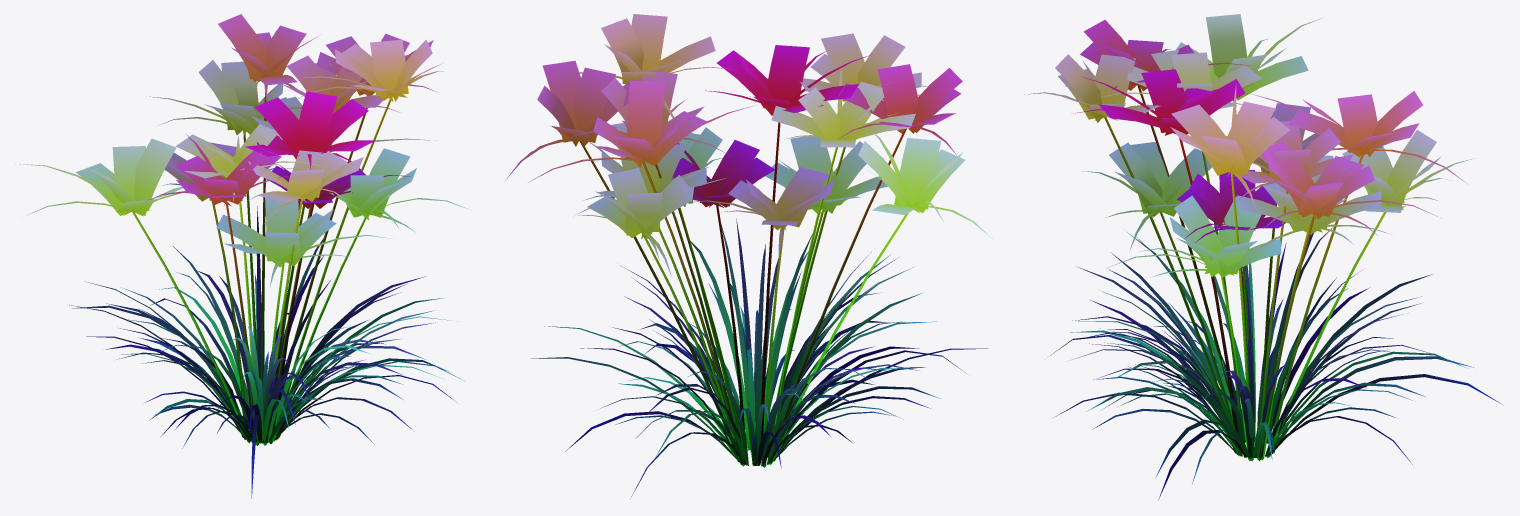
The model's file is Grass_Sedge_B_HD.fbx.
3 views of the same model, side by side, from view 1: azimuth 30°, elevation 25°; view 2: azimuth 150°, elevation 25°; view 3: azimuth 270°, elevation 25° (orthographic). The views are drawn at different scales.
Visible parts, largest first — view 1: Grass_Sedge_B_HD_LOD0; view 2: Grass_Sedge_B_HD_LOD0; view 3: Grass_Sedge_B_HD_LOD0.
Boxes of the visible parts, bbox=[...] form: Grass_Sedge_B_HD_LOD0: bbox=[15, 14, 471, 498]; Grass_Sedge_B_HD_LOD0: bbox=[504, 14, 992, 498]; Grass_Sedge_B_HD_LOD0: bbox=[1024, 14, 1502, 500].
Size of what is drawn, in the model's own units: 0.6706 by 0.55 by 0.6086.
